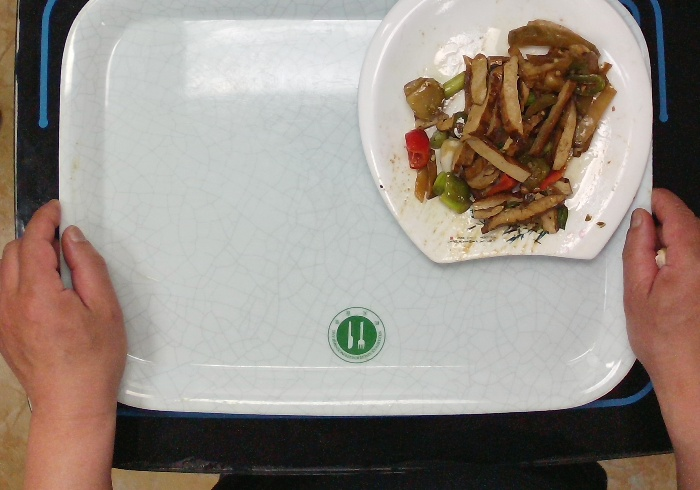JYsf-Mian_Pan: (356, 1, 655, 265)
